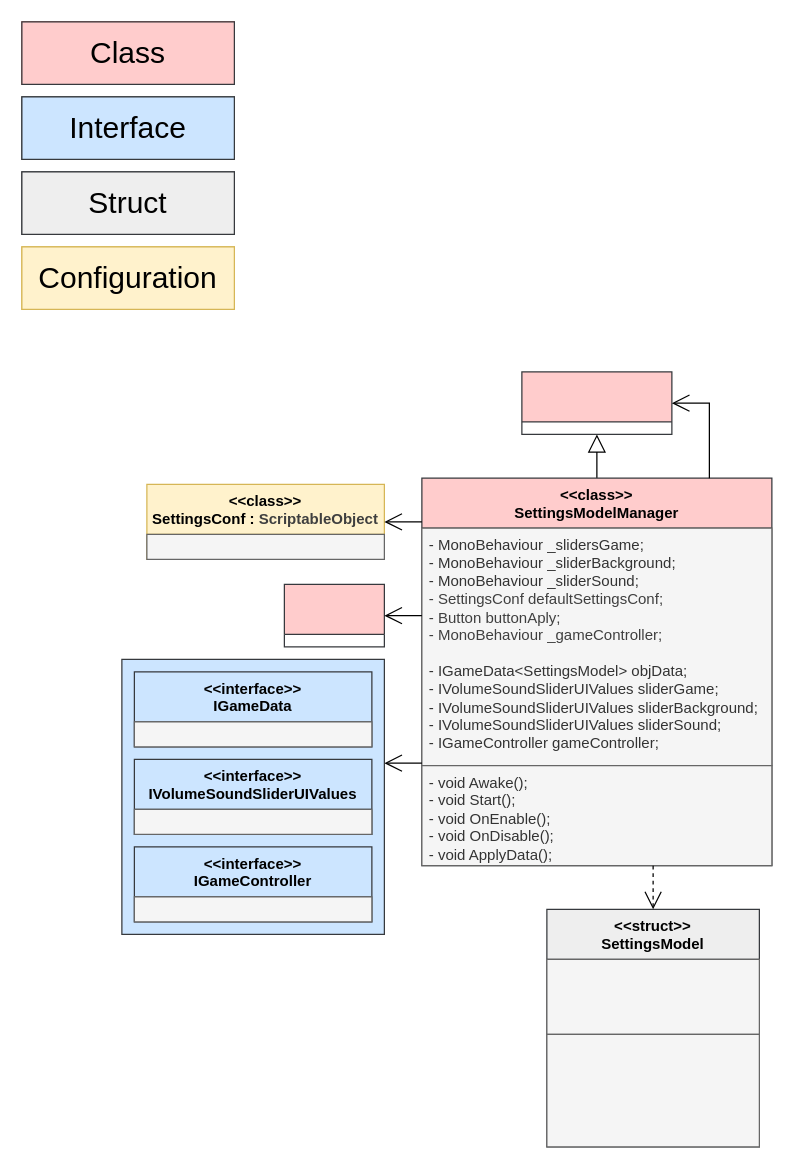
Some shapes in this 794 by 1173 pixel diagram are drawn without their labels. The shapes that lost their labels are listed below. From the top down, each one's centre as x and y in pixels, then its label:
At point 596,402: "<<class>> MonoBehaviour".
At point 333,615: "<<class>> Button".
At point 652,996: "+ float gameVolume; + float backgroundVolume; + float soundVolume;".
At point 652,1090: "+ SettingsModel( float gameVolume, float backgroundVolume, float soundVolume )".
